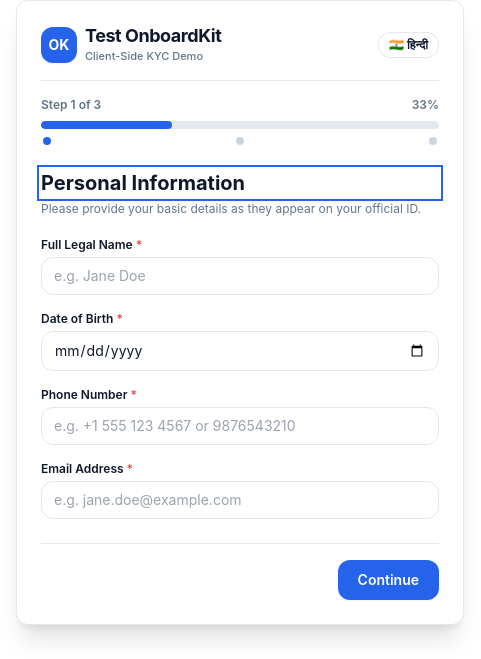
Scenario: Phase 2: Flow and Step Navigation › switches languages dynamically
Expected: the heading "Personal Information" is shown, x1=41 y1=171 x2=245 y2=195
Switch to Hindi
Click the button named "Switch language to Hindi": (408,44) x1=378 y1=32 x2=439 y2=58
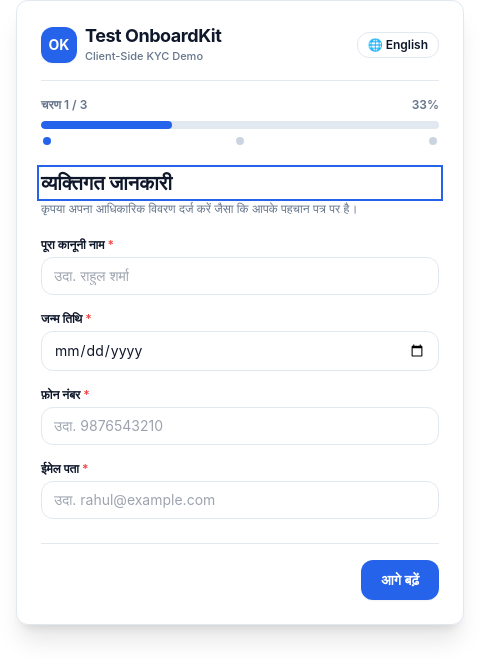
Now the heading "व्यक्तिगत जानकारी" is shown, box x1=41 y1=171 x2=172 y2=195
